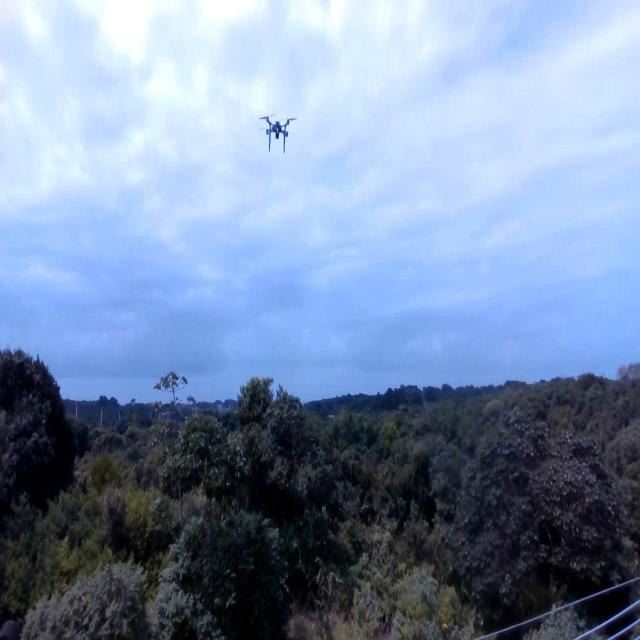-uav-: (254, 105, 302, 163)
